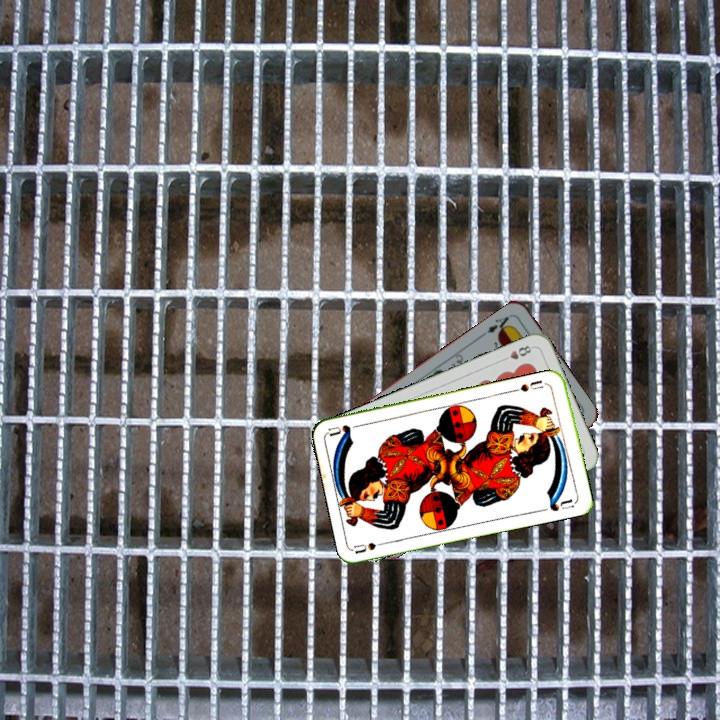EA: (478, 312, 514, 339)
H8: (497, 341, 536, 364)
SU: (351, 537, 392, 556), (516, 376, 546, 394)
